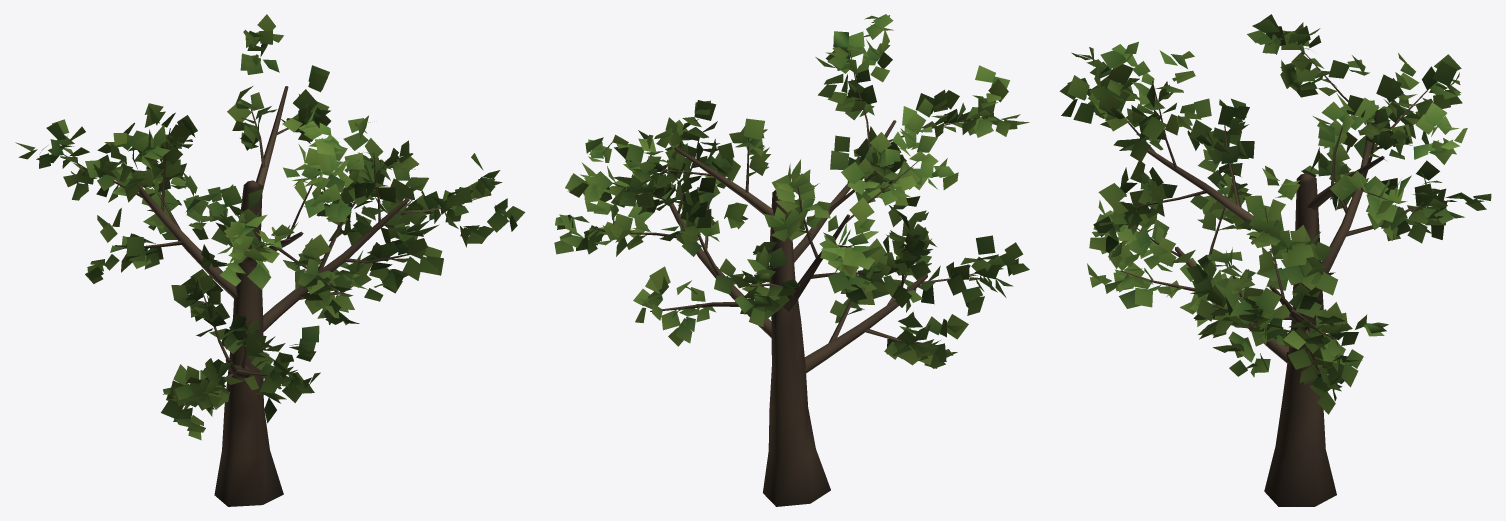
File: oak-b.lod1.glb
The picture shows the model from 3 angles, left to right: view 1: azimuth 30°, elevation 25°; view 2: azimuth 150°, elevation 25°; view 3: azimuth 270°, elevation 25°; orthographic projection. The views are drawn at different scales.
Bounding box in the file's own units: 7.81 × 7.63 × 6.61.
